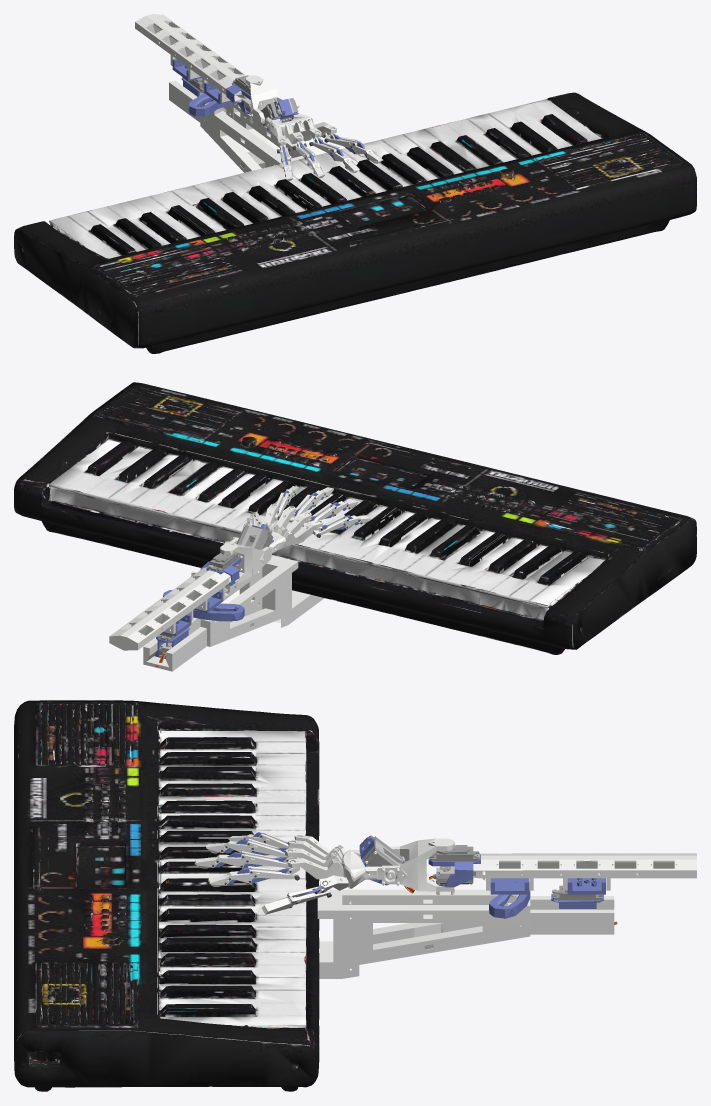
Rendered from symbionHandandPiano.glb.
3 renders of one model, top to bottom at view 1: azimuth 30°, elevation 25°; view 2: azimuth 150°, elevation 25°; view 3: azimuth 270°, elevation 25°, orthographic. The views are drawn at different scales.
Visible parts, largest first — view 1: model.001, Symbion_3D_Assets_ShuyangWang; view 2: model.001, Symbion_3D_Assets_ShuyangWang; view 3: model.001, Symbion_3D_Assets_ShuyangWang.
Boxes of the visible parts, x1,y1,x2,y2 form: model.001: [14, 92, 696, 353]; Symbion_3D_Assets_ShuyangWang: [135, 14, 383, 180]; model.001: [14, 382, 696, 654]; Symbion_3D_Assets_ShuyangWang: [109, 486, 370, 671]; model.001: [14, 700, 319, 1091]; Symbion_3D_Assets_ShuyangWang: [194, 832, 696, 978].
Size of the model in its own units: 0.9755 by 0.1766 by 0.8527.
Materials: 15 (1 with a texture image).
